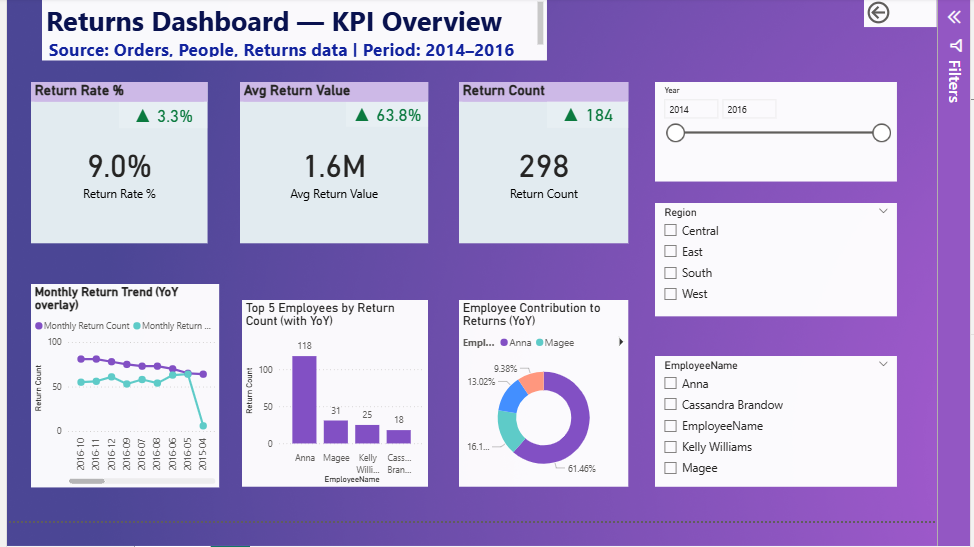

The page's visual inventory and layout, read from the dashboard file:
{"tool":"powerbi","page":{"name":"Page 1","canvas":[1280,720],"ordinal":0},"visuals":[{"type":"card","title":"Return Rate %","fields":{"Values":["Orders.Return Rate %"]},"box":[32.9,115.8,243.1,221.7],"z":0},{"type":"card","title":"Return Rate %","fields":{"Values":["Orders.Return Rate YoY Label"]},"box":[154.5,143,121.6,35.8],"z":1000},{"type":"card","title":"Avg Return Value","fields":{"Values":["Orders.Avg Return Value"]},"box":[320.4,115.8,258.9,221.7],"z":2000},{"type":"card","title":"Return Count","fields":{"Values":["Orders.Return Count"]},"box":[622.1,115.8,233.1,221.7],"z":3000},{"type":"card","title":"Return Rate %","fields":{"Values":["Orders.Avg Return Value YoY Label (Percent)"]},"box":[466.2,143,113,34.3],"z":4000},{"type":"card","title":"Return Rate %","fields":{"Values":["Orders.Return Count YoY Label"]},"box":[743.7,141.6,111.6,37.2],"z":5000},{"type":"textbox","box":[48.6,0,695.1,85.8],"z":6000},{"type":"lineChart","title":"Monthly Return Trend (YoY overlay)","fields":{"Category":["Date.YearMonth"],"Y":["Orders.Monthly Return Count","Orders.Monthly Return Count LY"]},"box":[32.9,393.3,258.9,280.3],"z":6001},{"type":"clusteredColumnChart","title":"Top 5 Employees by Return Count (with YoY)","fields":{"Category":["People.EmployeeName"],"Y":["Orders.Return Count"]},"box":[323.2,416.2,256,257.4],"z":6002},{"type":"actionButton","box":[0,0,100,40],"z":6003},{"type":"donutChart","title":"Employee Contribution to Returns (YoY)","fields":{"Category":["People.EmployeeName"],"Y":["Orders.Return Count"]},"box":[622.1,416.2,233.1,257.4],"z":6004},{"type":"slicer","fields":{"Values":["Date.Year"]},"box":[892.4,115.8,333.2,137.3],"z":6005},{"type":"slicer","fields":{"Values":["Orders.Region"]},"box":[892.4,281.7,333.2,155.9],"z":6006},{"type":"slicer","fields":{"Values":["People.EmployeeName"]},"box":[892.4,493.4,333.2,180.2],"z":6007}]}

Visuals, with their boxes in screenshot pixels (x1, y1, x2, y2):
"Return Rate %" card: crop(29, 81, 205, 242)
"Return Rate %" card: crop(117, 101, 205, 127)
"Avg Return Value" card: crop(237, 81, 424, 242)
"Return Count" card: crop(455, 81, 624, 242)
"Return Rate %" card: crop(343, 101, 424, 126)
"Return Rate %" card: crop(543, 100, 624, 127)
textbox: crop(40, 0, 543, 60)
"Monthly Return Trend (YoY overlay)" lineChart: crop(29, 282, 216, 485)
"Top 5 Employees by Return Count (with YoY)" clusteredColumnChart: crop(239, 299, 424, 485)
actionButton: crop(5, 0, 77, 26)
"Employee Contribution to Returns (YoY)" donutChart: crop(455, 299, 624, 485)
slicer - Date.Year: crop(651, 81, 892, 181)
slicer - Orders.Region: crop(651, 201, 892, 314)
slicer - People.EmployeeName: crop(651, 355, 892, 485)
